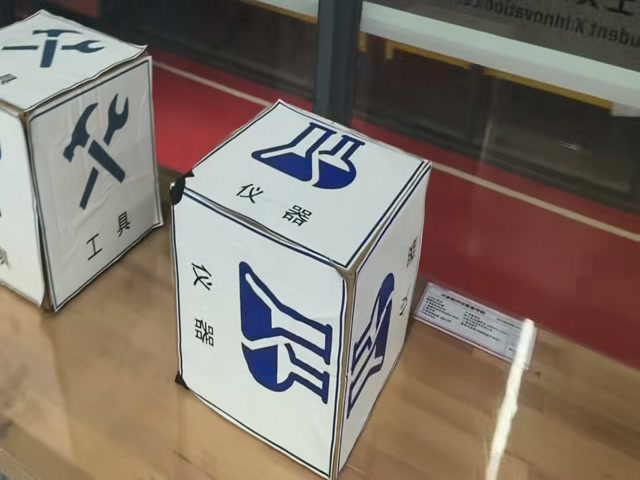Cube_ins: (173, 104, 424, 273)
Cube_tool: (0, 7, 150, 118)
